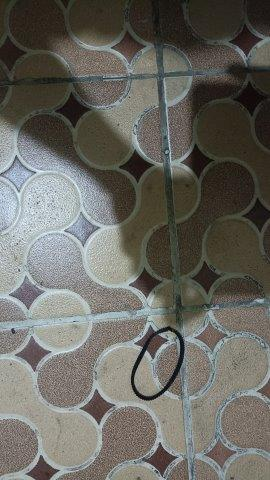karet: (131, 327, 185, 400)
